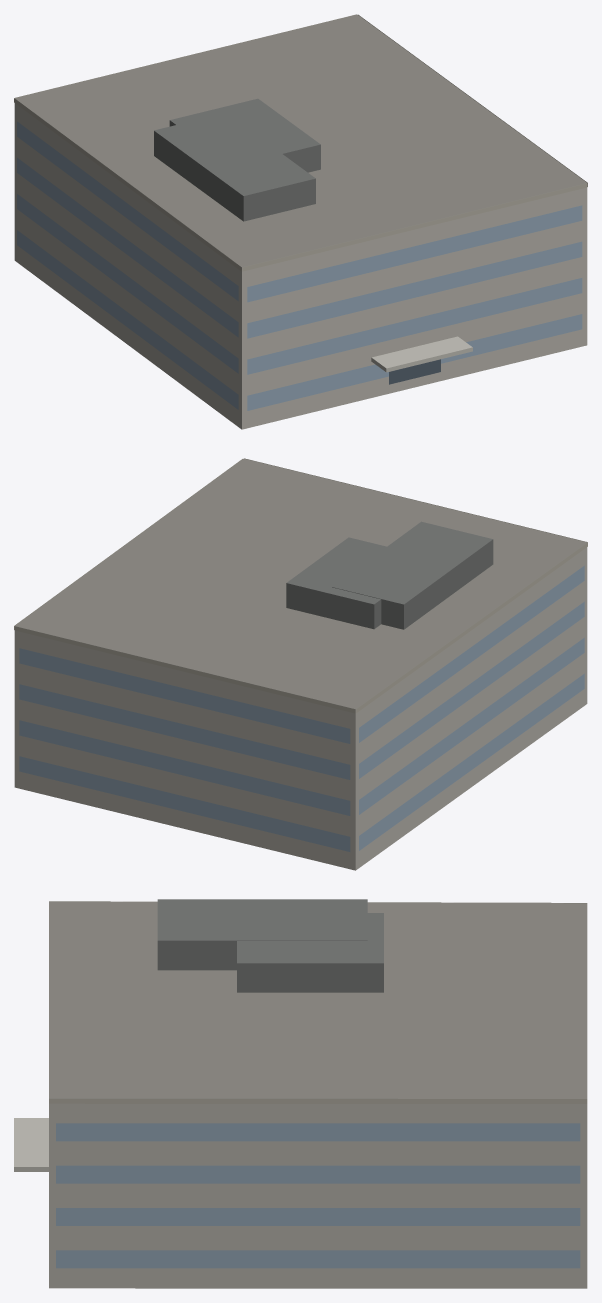
The model's file is federal-reserve-branch.glb.
The picture shows the model from 3 angles, top to bottom: view 1: azimuth 30°, elevation 25°; view 2: azimuth 150°, elevation 25°; view 3: azimuth 270°, elevation 25°; orthographic projection. The views are drawn at different scales.
Parts seen in each view (by area): view 1: federal_reserve_branch; view 2: federal_reserve_branch; view 3: federal_reserve_branch.
Boxes of the visible parts, <box> form: federal_reserve_branch: <box>14,14,587,429</box>; federal_reserve_branch: <box>14,458,587,870</box>; federal_reserve_branch: <box>14,899,587,1288</box>.
Size of the model in its own units: 40.1 by 20.74 by 49.17.
